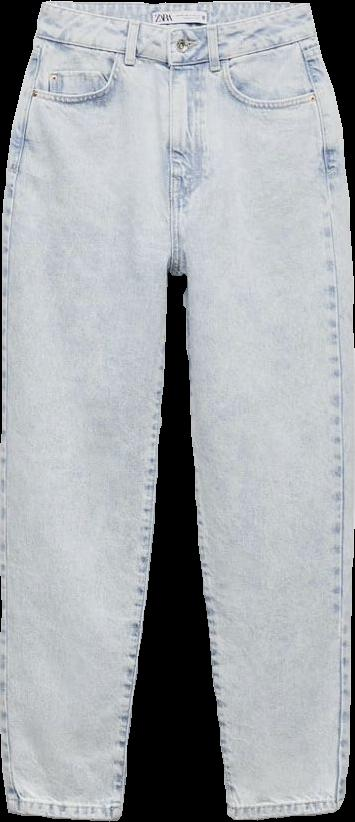Hemline: (227, 798, 346, 821), (4, 804, 122, 821)
Pantleg: (168, 0, 354, 818), (0, 2, 173, 820)
Waistline: (31, 30, 317, 65), (37, 0, 310, 31)
